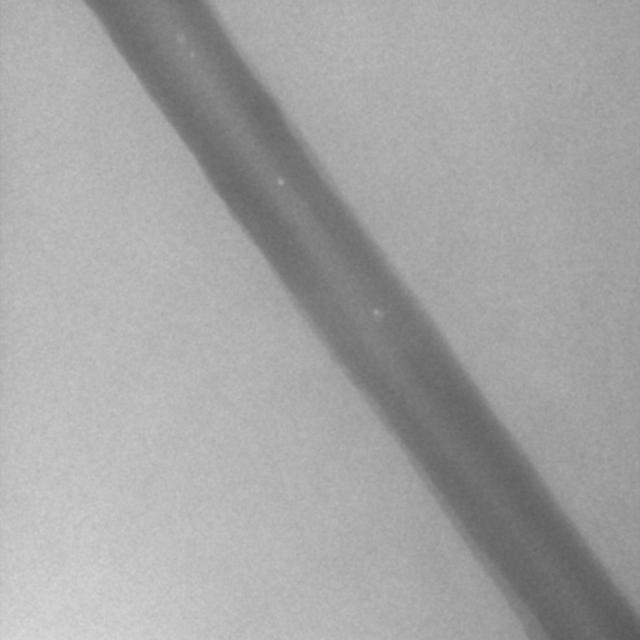air hole: (369, 304, 381, 318), (276, 175, 286, 188)
